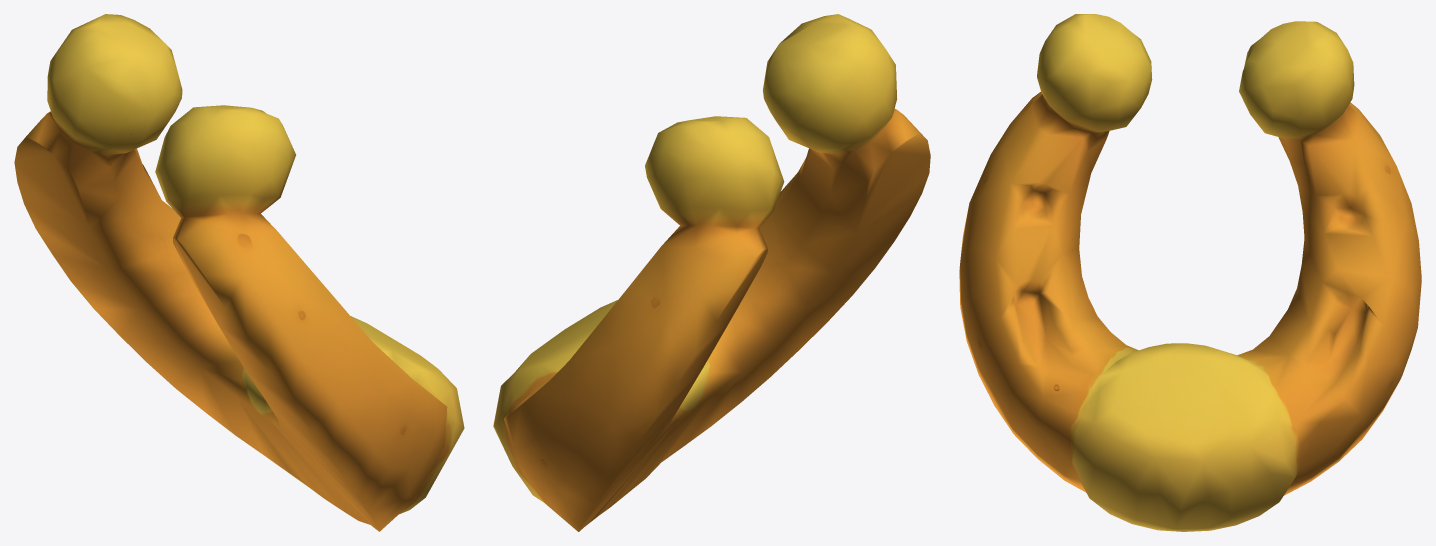
Rendered from charm_ferradura.glb.
3 renders of one model, left to right at view 1: azimuth 30°, elevation 25°; view 2: azimuth 150°, elevation 25°; view 3: azimuth 270°, elevation 25°, orthographic. The views are drawn at different scales.
Visible parts, largest first — view 1: tripo_node_4295a596-d2a5-4d05-88eb-37dfe98fb812; view 2: tripo_node_4295a596-d2a5-4d05-88eb-37dfe98fb812; view 3: tripo_node_4295a596-d2a5-4d05-88eb-37dfe98fb812.
Boxes of the visible parts, x1=… form: tripo_node_4295a596-d2a5-4d05-88eb-37dfe98fb812: x1=14, y1=14, x2=464, y2=531; tripo_node_4295a596-d2a5-4d05-88eb-37dfe98fb812: x1=493, y1=14, x2=930, y2=531; tripo_node_4295a596-d2a5-4d05-88eb-37dfe98fb812: x1=959, y1=14, x2=1421, y2=531.
Bounding box in the file's own units: 0.7051 × 0.998 × 0.9785.
Materials: 1 (1 with a texture image).
